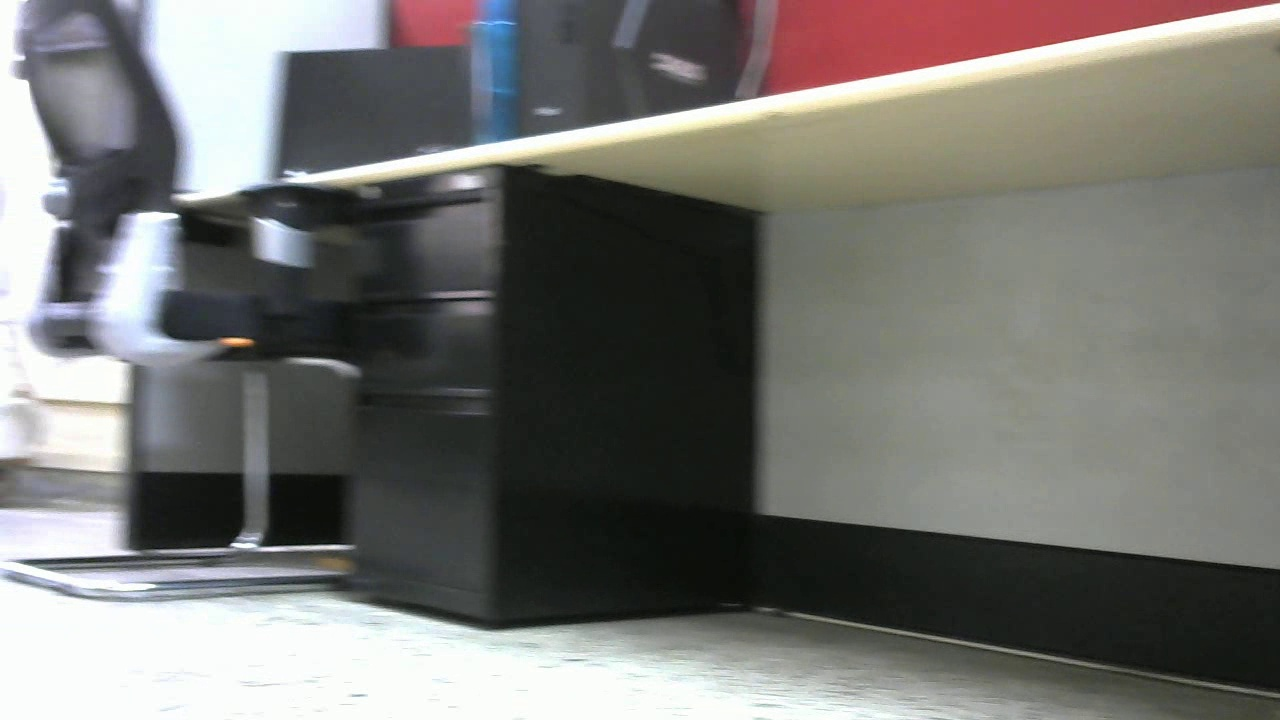chair: (17, 1, 371, 607)
